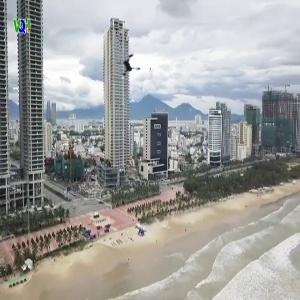drone: (116, 47, 152, 83)
